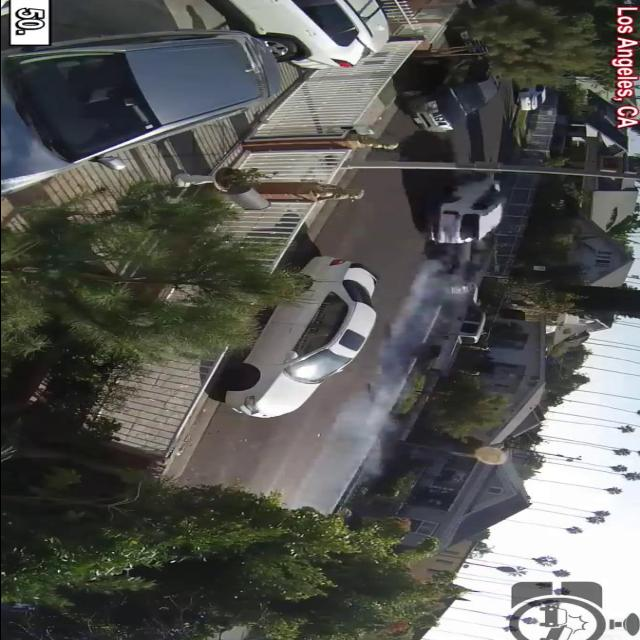accident: (394, 160, 534, 300)
